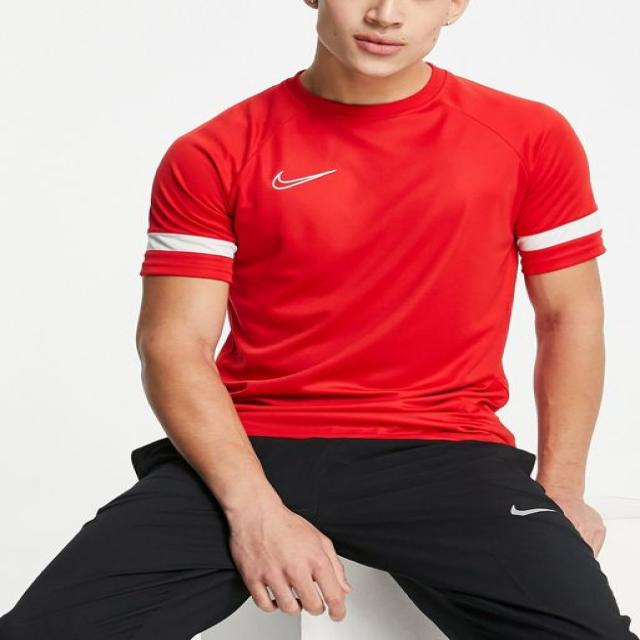tshirt: (137, 64, 605, 444)
